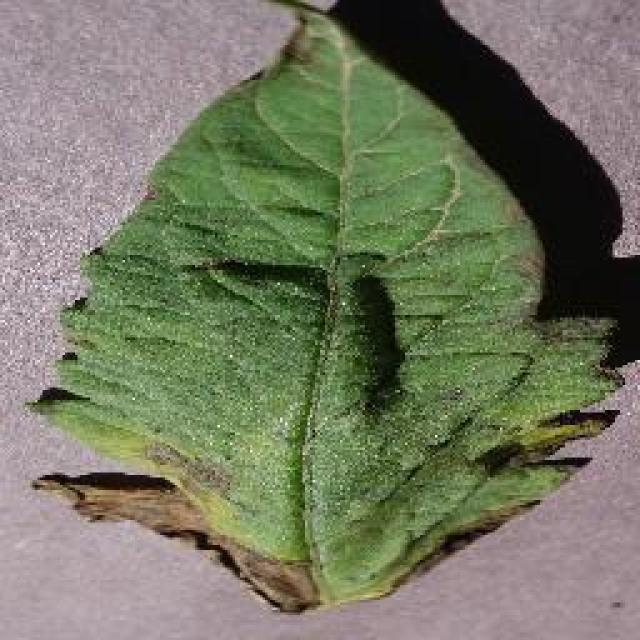Tomato Early blight leaf: (27, 0, 625, 618)
